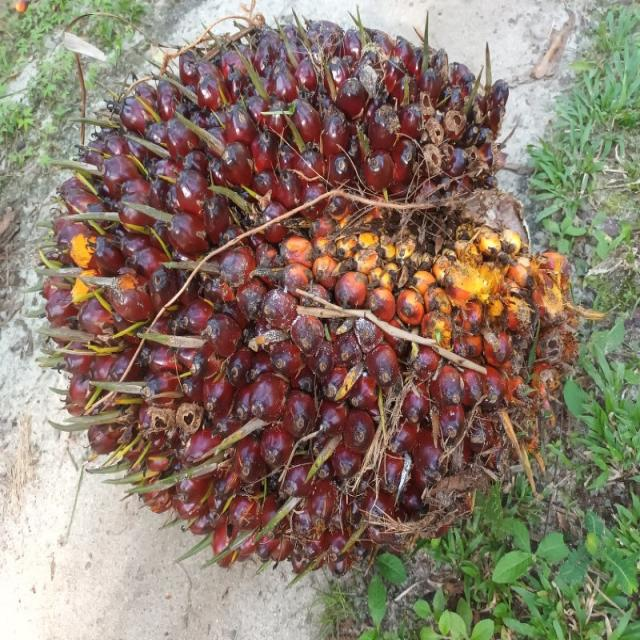fraksi 1: (31, 17, 564, 580)
